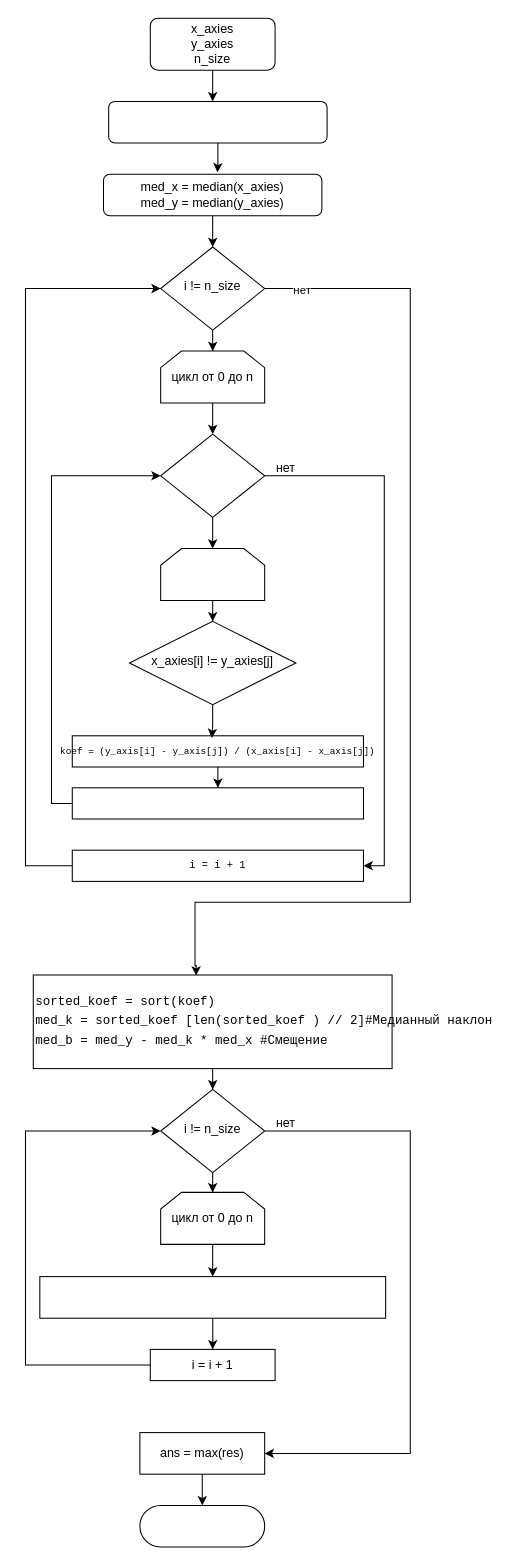
This 510x1565 diagram has some shape labels left out. The shapes that lost their labels are listed below. From the top down, each one's centre as x and y in pixels, then its label:
At pixel 217 121: "points = sort(x_axies, y_axies)".
At pixel 212 475: "j != i".
At pixel 212 574: "цикл от i до j".
At pixel 217 803: "j = j + 1".
At pixel 212 1297: "res = abs(y_axis[i] - (med_k * x_axis[i] + med_b))".
At pixel 202 1525: "Oстановка".
